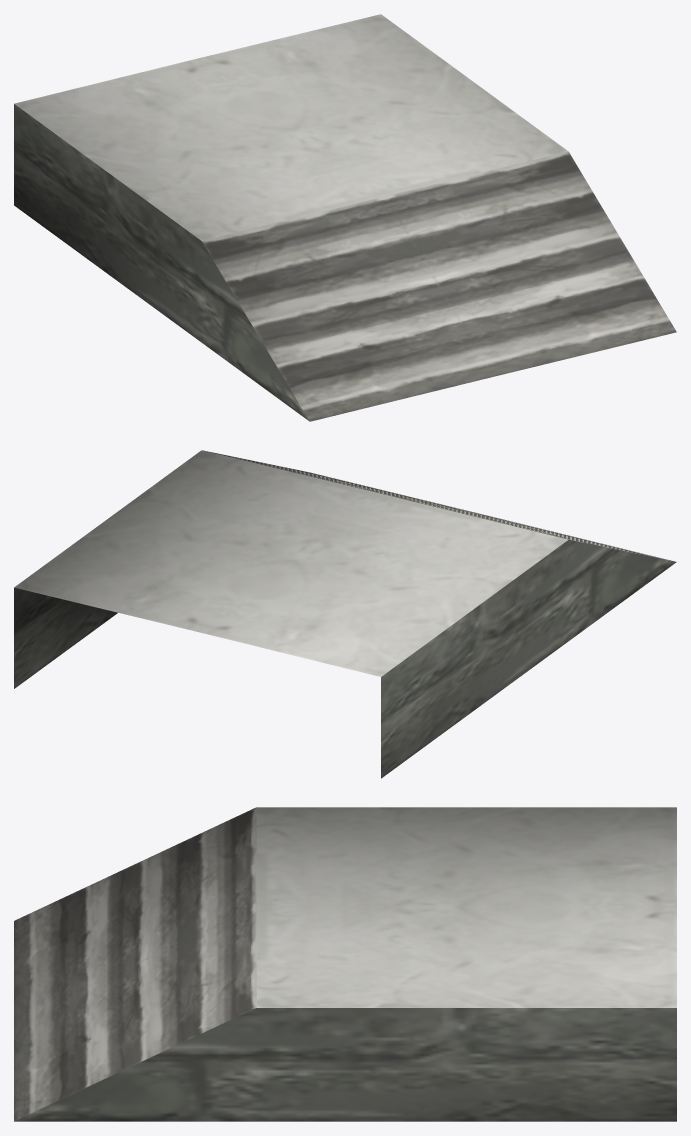
File: unity_dungeon_step01.FBX
3 renders of one model, top to bottom at view 1: azimuth 30°, elevation 25°; view 2: azimuth 150°, elevation 25°; view 3: azimuth 270°, elevation 25°, orthographic. The views are drawn at different scales.
Parts seen in each view (by area): view 1: unity_dungeon_step01; view 2: unity_dungeon_step01; view 3: unity_dungeon_step01.
Part boxes in pixels (left/top/right/bottom): unity_dungeon_step01: left=14, top=14, right=676, bottom=421; unity_dungeon_step01: left=14, top=450, right=676, bottom=778; unity_dungeon_step01: left=14, top=807, right=676, bottom=1121.
Size of the model in its own units: 4.56 by 1.21 by 6.37.
